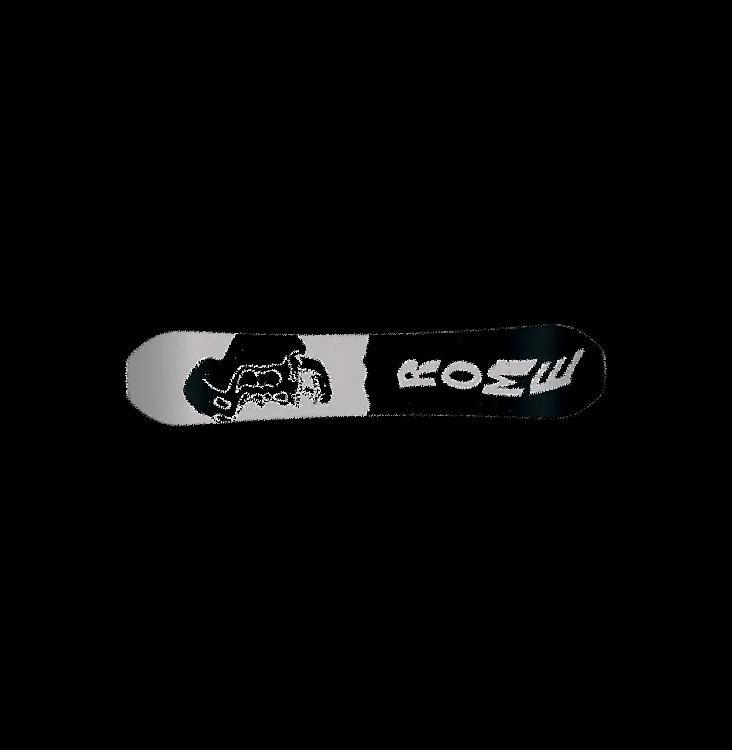Snowboard: (124, 322, 607, 426)
